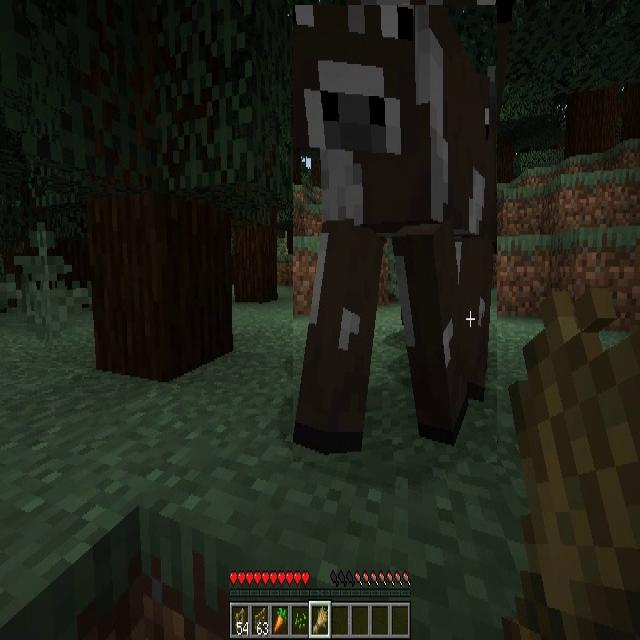cow: (293, 5, 497, 462)
